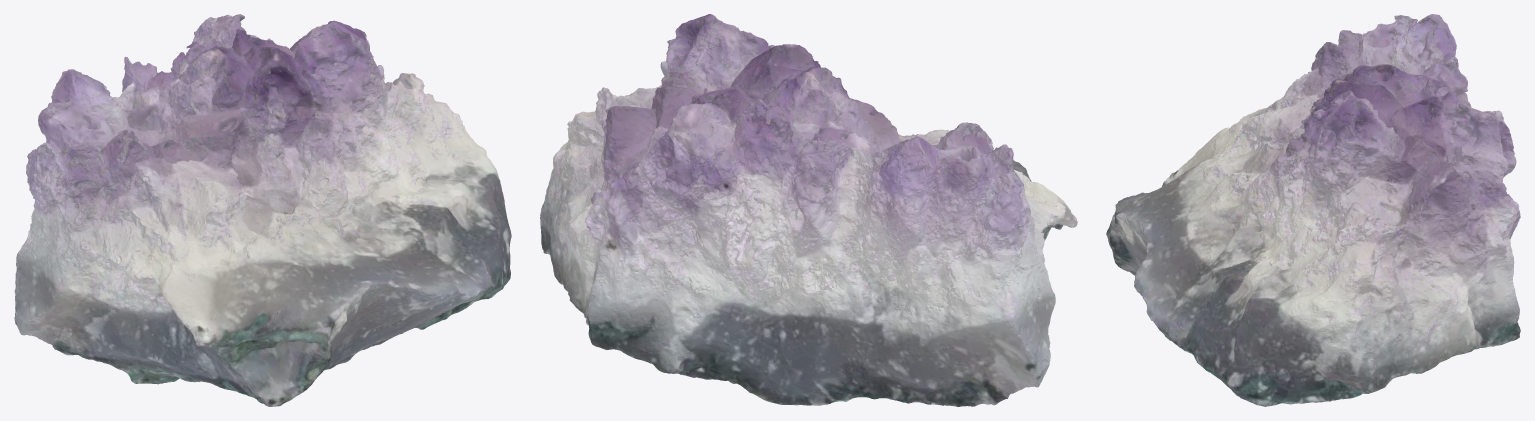
The model's file is amatista.glb.
3 views of the same model, side by side, from view 1: azimuth 30°, elevation 25°; view 2: azimuth 150°, elevation 25°; view 3: azimuth 270°, elevation 25° (orthographic). The views are drawn at different scales.
Visible parts, largest first — view 1: Object_3, Object_2, Object_4; view 2: Object_3, Object_2, Object_4; view 3: Object_2, Object_3, Object_4.
Boxes of the visible parts, bbox=[...] form: Object_3: bbox=[14, 56, 383, 406]; Object_2: bbox=[68, 16, 511, 383]; Object_4: bbox=[26, 14, 502, 396]; Object_3: bbox=[711, 75, 1070, 406]; Object_2: bbox=[540, 14, 1040, 406]; Object_4: bbox=[542, 14, 1077, 405]; Object_2: bbox=[1134, 62, 1520, 406]; Object_3: bbox=[1106, 14, 1469, 275]; Object_4: bbox=[1153, 16, 1518, 397].
Bounding box in the file's own units: 29.08 × 18.44 × 23.64.
1 material, 1 textured.
